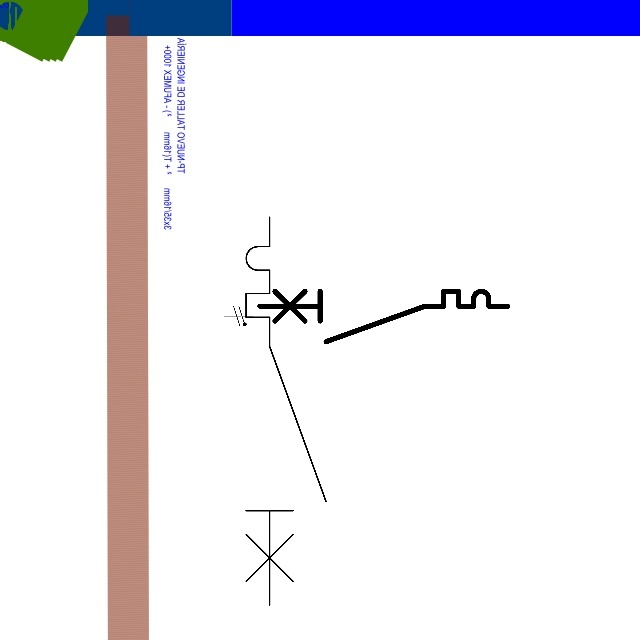interruptor_termomagnetico: (236, 207, 336, 615), (253, 285, 513, 348)
